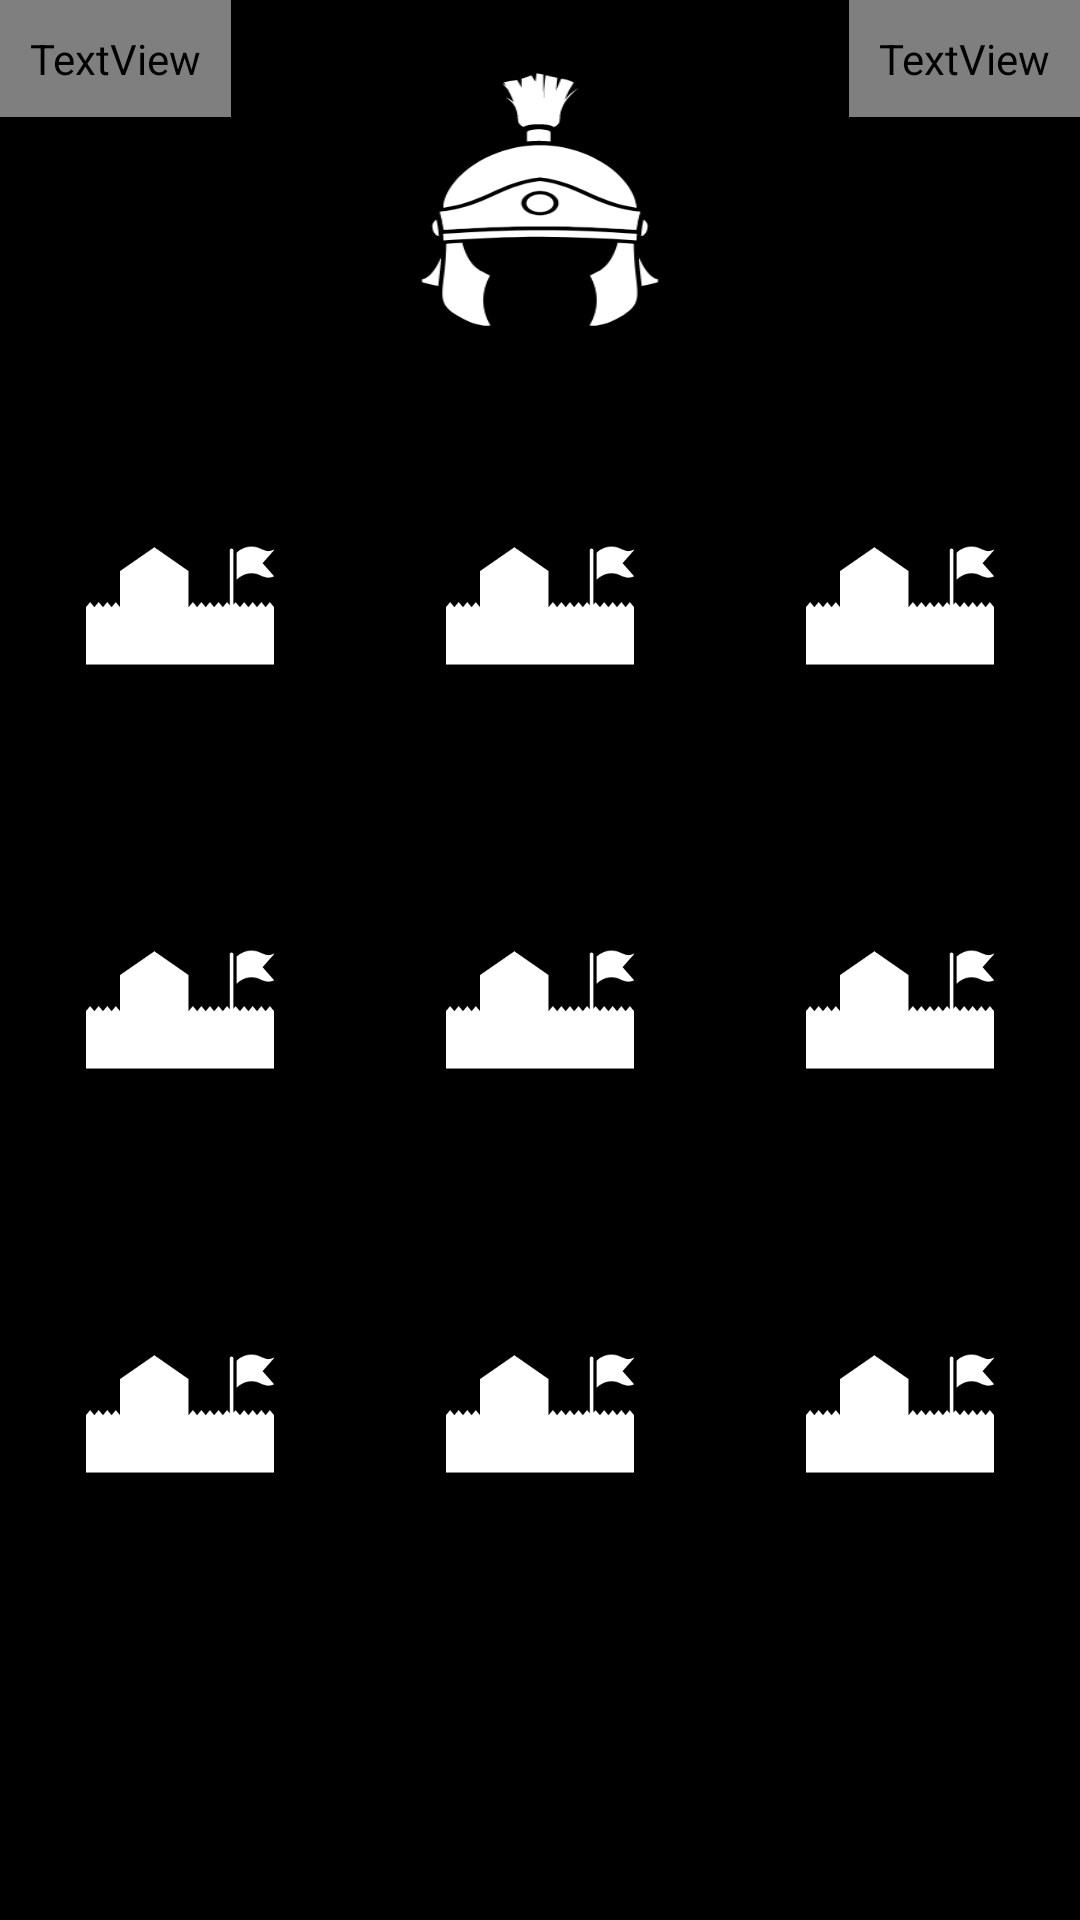

Screen size 1080x1920. Icon name, then its box in pixels as box(x1, y1, x2, y2):
roman helmet: box(421, 73, 659, 326)
